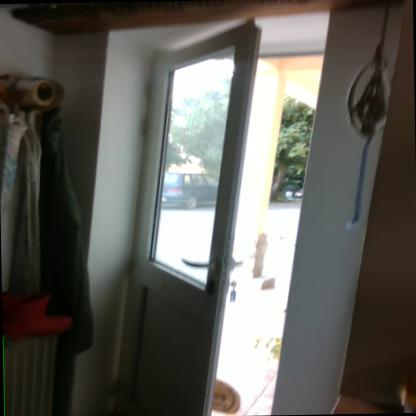semi: (106, 11, 362, 415)
